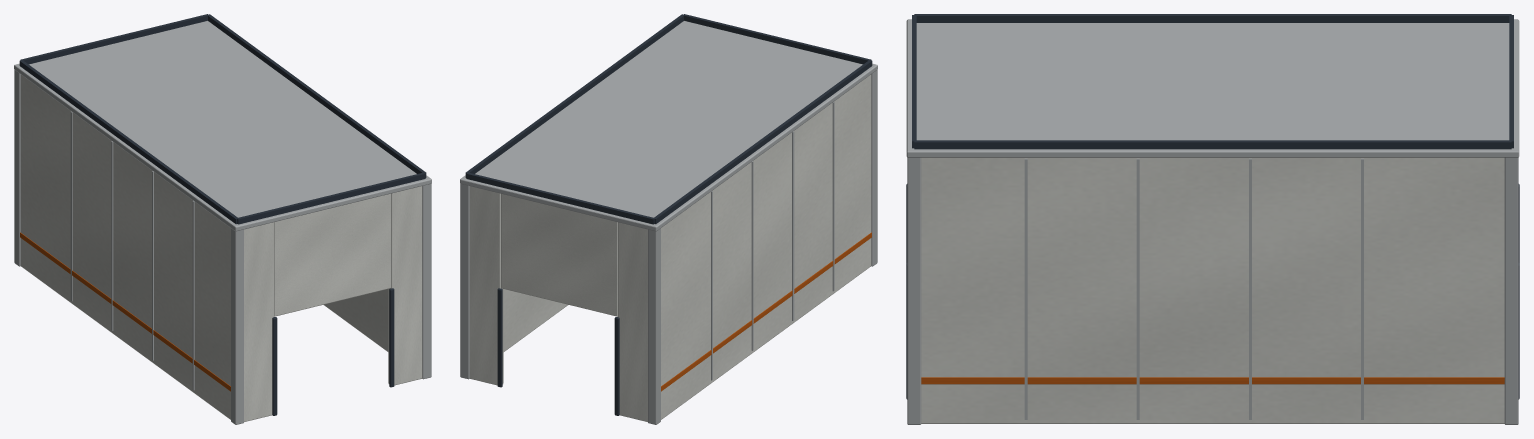
File: enclosed_connector.glb
The picture shows the model from 3 angles, left to right: view 1: azimuth 30°, elevation 25°; view 2: azimuth 150°, elevation 25°; view 3: azimuth 270°, elevation 25°; orthographic projection. The views are drawn at different scales.
Parts seen in each view (by area): view 1: Roof.003, Side_Wall.006, Door_Header.003, Front_Wall.007, Front_Wall.006, Corner_Pier.012, Side_Wall.007, Corner_Pier.014, Roof_Parapet.012, Roof_Parapet.013, Roof_Parapet.014, Roof_Parapet.015 (+7 smaller); view 2: Roof.003, Side_Wall.006, Rear_Door_Header.003, Rear_Front_Wall.007, Rear_Front_Wall.006, Corner_Pier.013, Side_Wall.007, Corner_Pier.015, Roof_Parapet.012, Roof_Parapet.013, Roof_Parapet.015, Roof_Parapet.014 (+7 smaller); view 3: Side_Wall.007, Roof.003, Roof_Parapet.013, Roof_Parapet.012, Side_IdentityStripe.007, Corner_Pier.014, Corner_Pier.015, Facade_Column.046, Facade_Column.047, Facade_Column.048, Facade_Column.049, Roof_Parapet.014 (+1 smaller).
Boxes of the visible parts, x1=… form: Roof.003: x1=14, y1=21, x2=431, y2=231; Side_Wall.006: x1=20, y1=74, x2=230, y2=419; Door_Header.003: x1=274, y1=193, x2=390, y2=316; Front_Wall.007: x1=388, y1=186, x2=422, y2=385; Front_Wall.006: x1=244, y1=222, x2=273, y2=421; Corner_Pier.012: x1=231, y1=228, x2=243, y2=424; Side_Wall.007: x1=323, y1=289, x2=388, y2=351; Corner_Pier.014: x1=422, y1=184, x2=431, y2=379; Roof_Parapet.012: x1=19, y1=60, x2=237, y2=224; Roof_Parapet.013: x1=208, y1=14, x2=426, y2=177; Roof_Parapet.014: x1=237, y1=173, x2=425, y2=224; Roof_Parapet.015: x1=20, y1=14, x2=207, y2=64; Roof.003: x1=460, y1=21, x2=877, y2=231; Side_Wall.006: x1=661, y1=74, x2=871, y2=419; Rear_Door_Header.003: x1=501, y1=193, x2=617, y2=316; Rear_Front_Wall.007: x1=469, y1=186, x2=503, y2=385; Rear_Front_Wall.006: x1=618, y1=222, x2=647, y2=421; Corner_Pier.013: x1=648, y1=228, x2=660, y2=424; Side_Wall.007: x1=503, y1=289, x2=568, y2=351; Corner_Pier.015: x1=460, y1=184, x2=469, y2=379; Roof_Parapet.012: x1=654, y1=60, x2=872, y2=224; Roof_Parapet.013: x1=465, y1=14, x2=683, y2=177; Roof_Parapet.015: x1=466, y1=173, x2=654, y2=224; Roof_Parapet.014: x1=683, y1=14, x2=871, y2=64; Side_Wall.007: x1=921, y1=157, x2=1504, y2=423; Roof.003: x1=906, y1=19, x2=1519, y2=157; Roof_Parapet.013: x1=914, y1=140, x2=1511, y2=149; Roof_Parapet.012: x1=914, y1=14, x2=1511, y2=22; Side_IdentityStripe.007: x1=921, y1=377, x2=1504, y2=384; Corner_Pier.014: x1=907, y1=157, x2=921, y2=424; Corner_Pier.015: x1=1504, y1=157, x2=1518, y2=424; Facade_Column.046: x1=1024, y1=158, x2=1027, y2=419; Facade_Column.047: x1=1136, y1=158, x2=1139, y2=419; Facade_Column.048: x1=1249, y1=158, x2=1251, y2=419; Facade_Column.049: x1=1361, y1=158, x2=1363, y2=419; Roof_Parapet.014: x1=912, y1=15, x2=916, y2=148.
Bounding box in the file's own units: 8.4 × 8.31 × 16.42.
Materials: 4 (2 with a texture image).
